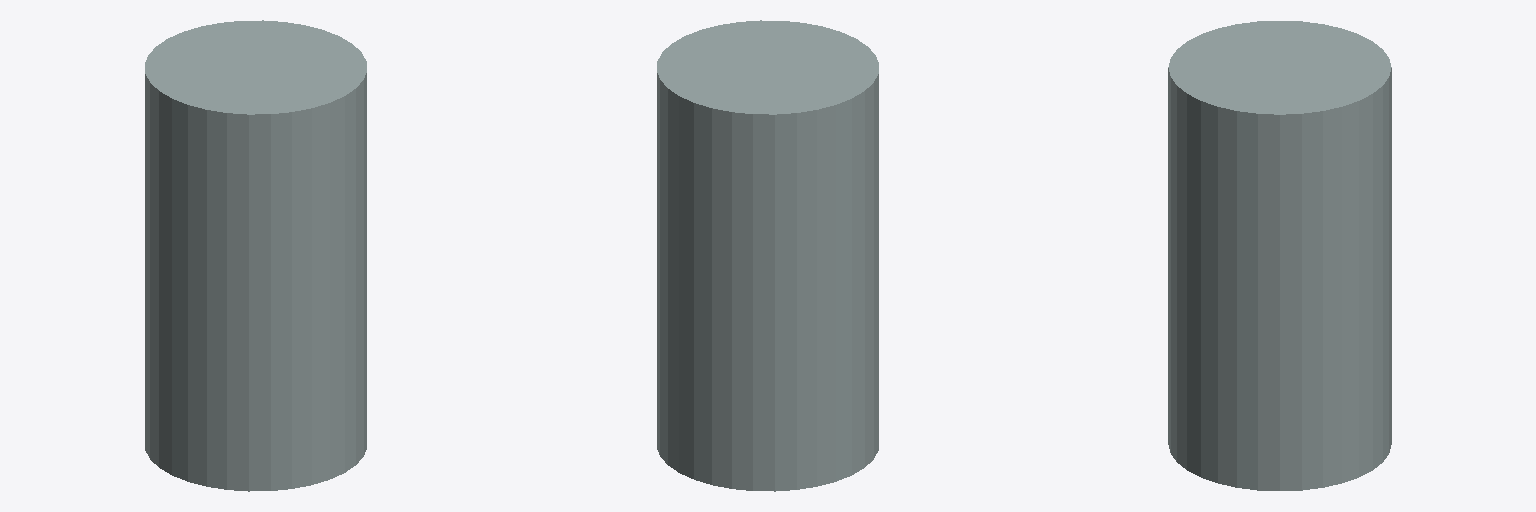
URDF robot description (can):
<robot name="can">
  <link name="base_link">
    <collision>
      <origin xyz="0.017 0.017 0.0" />
      <geometry>
        <cylinder length="0.123" radius="0.033" />
      </geometry>
    </collision>
    <visual>
      <origin xyz="0.017 0.017 0.0" />
      <material name="c">
        <color rgba="0.65 0.7 0.7 1.0" />
      </material>
      <geometry>
        <cylinder length="0.123" radius="0.033" />
      </geometry>
    </visual>
  </link>
</robot>

--- What the picture shows (computed from the rendered views, not written in the file) ---
The picture shows the robot from 3 angles, left to right: view 1: azimuth 30°, elevation 25°; view 2: azimuth 150°, elevation 25°; view 3: azimuth 270°, elevation 25°; orthographic projection.
Robot: can — 1 links, 0 joints (none); root link base_link; default pose: every joint at zero.
Links seen in each view (by area): view 1: base_link; view 2: base_link; view 3: base_link.
Link boxes in pixels (<box>): base_link: <box>145,20,366,491</box>; base_link: <box>657,20,878,491</box>; base_link: <box>1168,21,1391,490</box>.
Size in the robot's own frame: 0.066 by 0.066 by 0.123 metres.
Geometry: primitives only (box / cylinder / sphere), no mesh files.